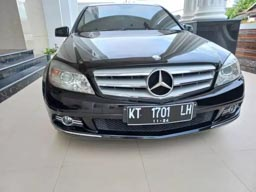plat: (127, 104, 191, 117)
